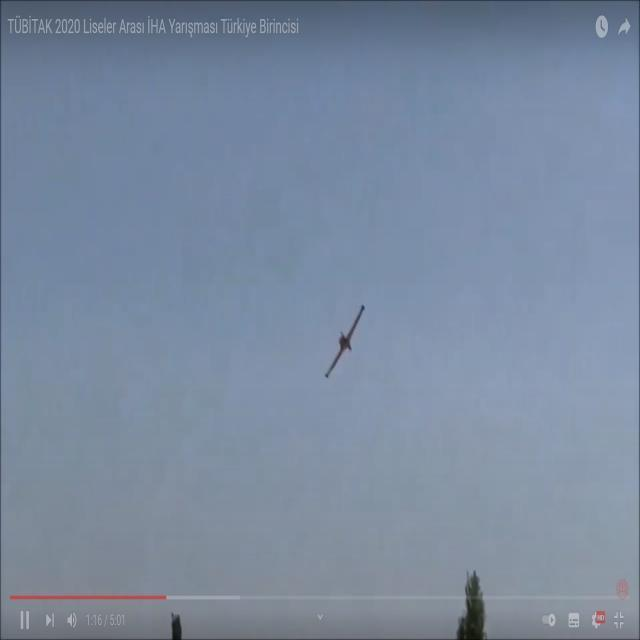UAV: (328, 298, 390, 399)
